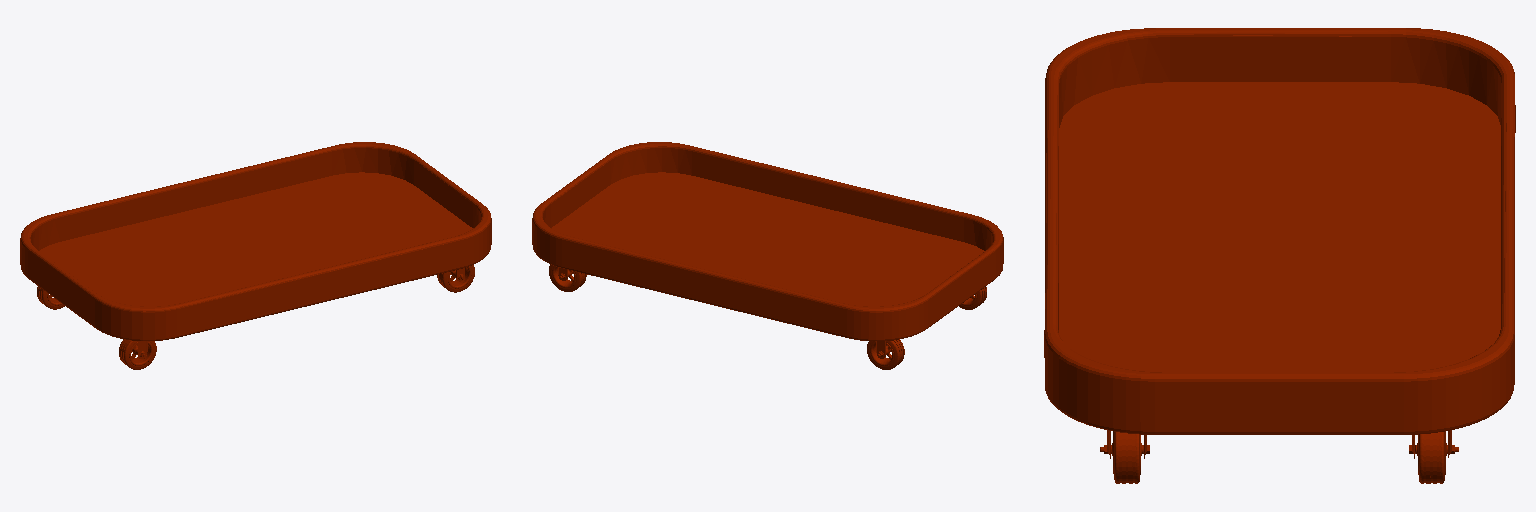
robot.urdf — apple:
<?xml version="1.0" encoding="utf-8"?>
<robot name="apple">
  <link name="base_link">
    <contact>
      <lateral_friction value="0.5"/>
      <rolling_friction value="0.0"/>
      <contact_cfm value="0.0"/>
      <contact_erp value="1.0"/>
    </contact>
    <inertial>
      <origin
        xyz="0 0 0.2"
        rpy="0 0 0" />
      <mass
        value="1.99" />
      <inertia
        ixx="1.73042"
        ixy="-1.2824E-17"
        ixz="-2.8299E-17"
        iyy="1.73042"
        iyz="2.85579897269348E-17"
        izz="1.0053" />
    </inertial>
    <visual>
      <origin rpy="1.57 0 3.14" xyz="0 0 0.2"/>
      <geometry>
        <mesh filename="models/meshes/trolley/trolley.stl" scale="10 10 10"/>
      </geometry>
      <material name="hi">
        <color rgba="0.5724 0.168 0.012 1"/>
      </material>
    </visual>
    <collision>
      <origin rpy="1.57 0 3.14" xyz="0 0 0.2"/>
      <geometry>
        <mesh filename="models/meshes/trolley/trolley.stl" scale="10 10 10"/>
      </geometry>
    </collision>
  </link>
</robot>

--- Facts derived from the render (not from the file) ---
Views: 3 orthographic renders of the robot side by side, from view 1: azimuth 30°, elevation 25°; view 2: azimuth 150°, elevation 25°; view 3: azimuth 270°, elevation 25°.
Robot: apple — 1 links, 0 joints (none); root link base_link; default pose: all joints at 0.
Links seen in each view (by area): view 1: base_link; view 2: base_link; view 3: base_link.
Link boxes in pixels (<box>): base_link: <box>20,142,491,369</box>; base_link: <box>532,142,1003,369</box>; base_link: <box>1044,28,1515,483</box>.
Bounding box of the posed robot: 1.5 × 0.8518 × 0.2711 m (x, y, z).
Meshes: 1 distinct files referenced, 1 mesh visuals loaded (1 binary STL).